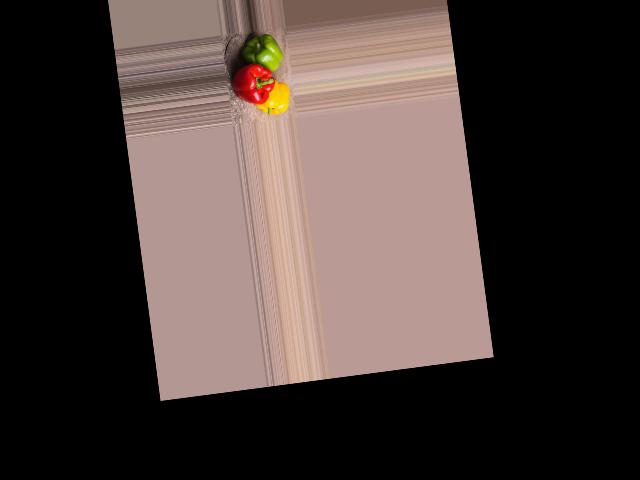bell_pepper: (253, 80, 293, 116)
